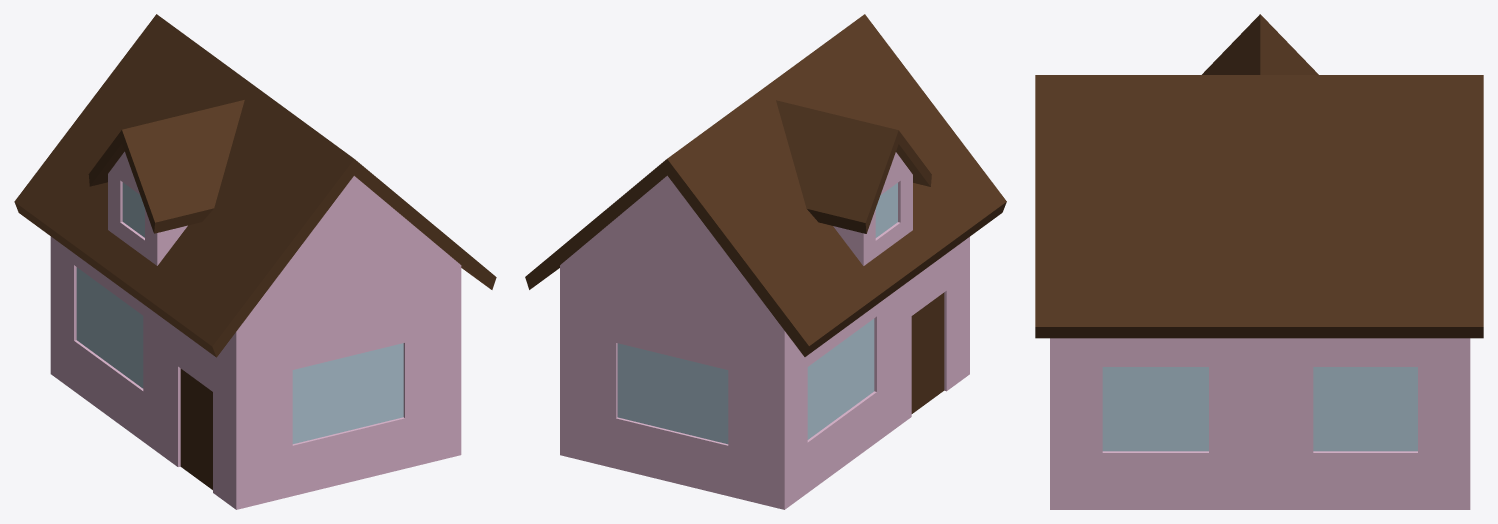
The model's file is house3.fbx.
3 renders of one model, left to right at view 1: azimuth 30°, elevation 25°; view 2: azimuth 150°, elevation 25°; view 3: azimuth 270°, elevation 25°, orthographic. The views are drawn at different scales.
Parts seen in each view (by area): view 1: Cube.002; view 2: Cube.002; view 3: Cube.002.
Part boxes in pixels (x1=…): Cube.002: x1=14, y1=14, x2=496, y2=509; Cube.002: x1=525, y1=14, x2=1006, y2=509; Cube.002: x1=1035, y1=14, x2=1483, y2=509.
Bounding box in the file's own units: 885 × 977 × 1067.
